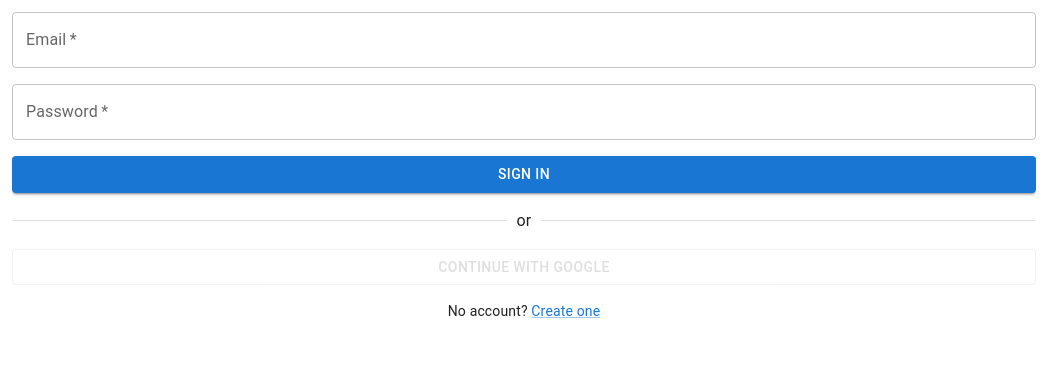
Test case: LoginForm › shows an error message when login fails
Type "user@example.com" into the field labelled "Email *".
click(524, 40); type("user@example.com")  # box [12,12,1036,68]
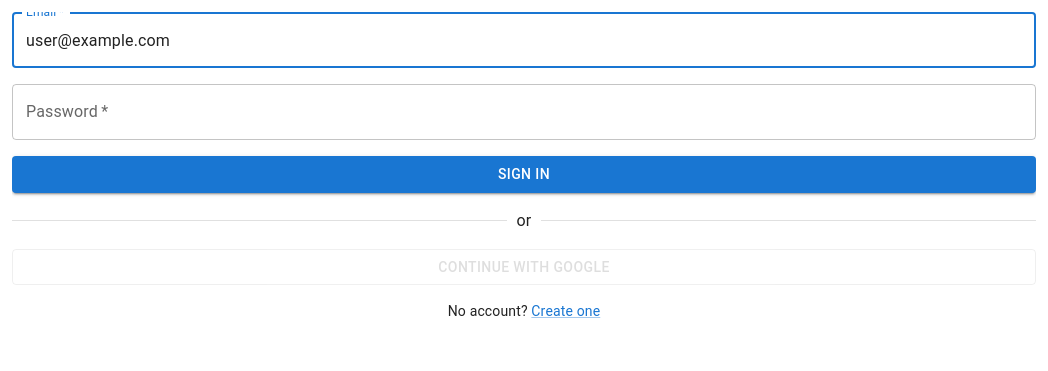
Type "wrong" into the password field labelled "Password *".
click(524, 112); type("wrong")  # box [12,84,1036,140]
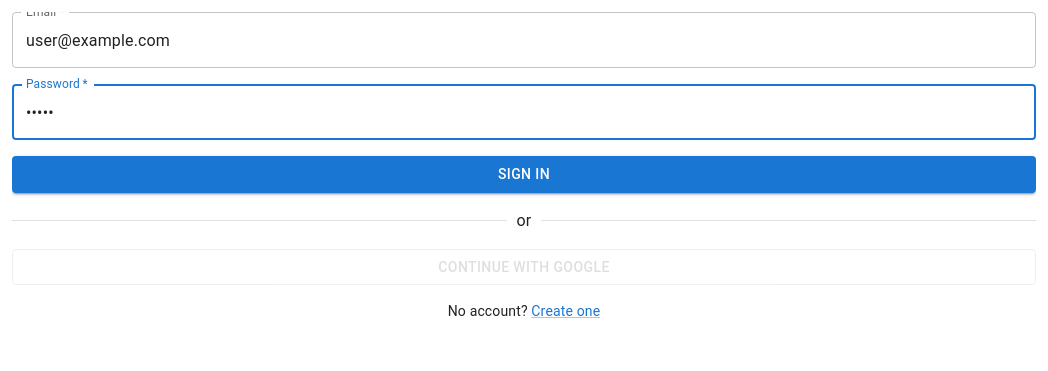
Click the button "Sign in".
click(524, 174)  # box [12,156,1036,192]
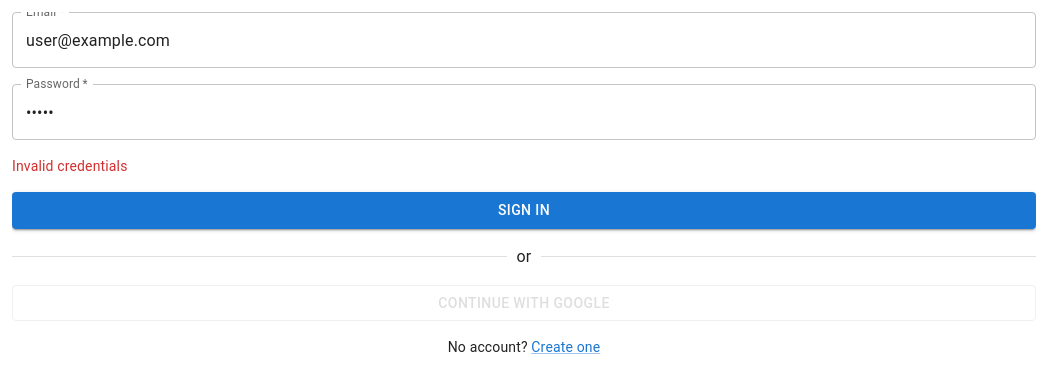
Check: the text "Invalid credentials" is shown, box [12,158,128,174]
